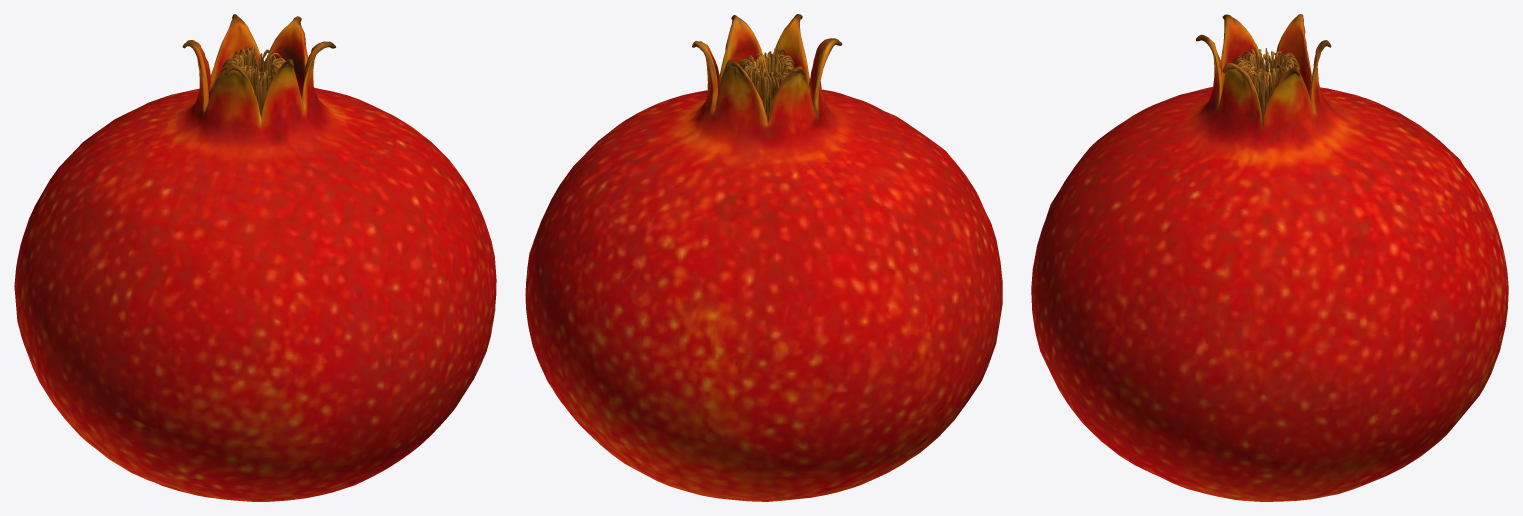
File: granate.glb
3 renders of one model, left to right at view 1: azimuth 30°, elevation 25°; view 2: azimuth 150°, elevation 25°; view 3: azimuth 270°, elevation 25°, orthographic.
Size of the model in its own units: 0.9365 by 0.9502 by 0.9341.
Materials: 1 (1 with a texture image).
